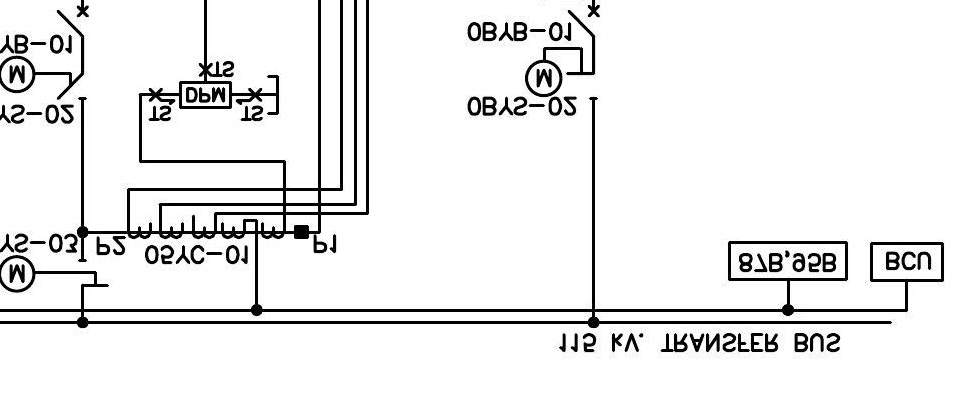115_1way_ds_w_motor: (524, 47, 598, 101)
115_breaker: (567, 4, 601, 38), (56, 5, 89, 38)
BCU: (869, 241, 945, 283)
DPM: (179, 81, 233, 109)
